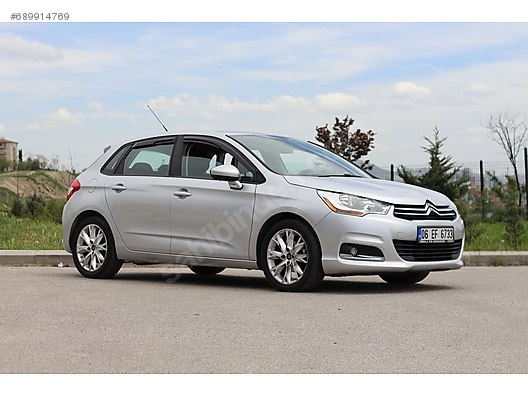citroen: (57, 126, 476, 297)
